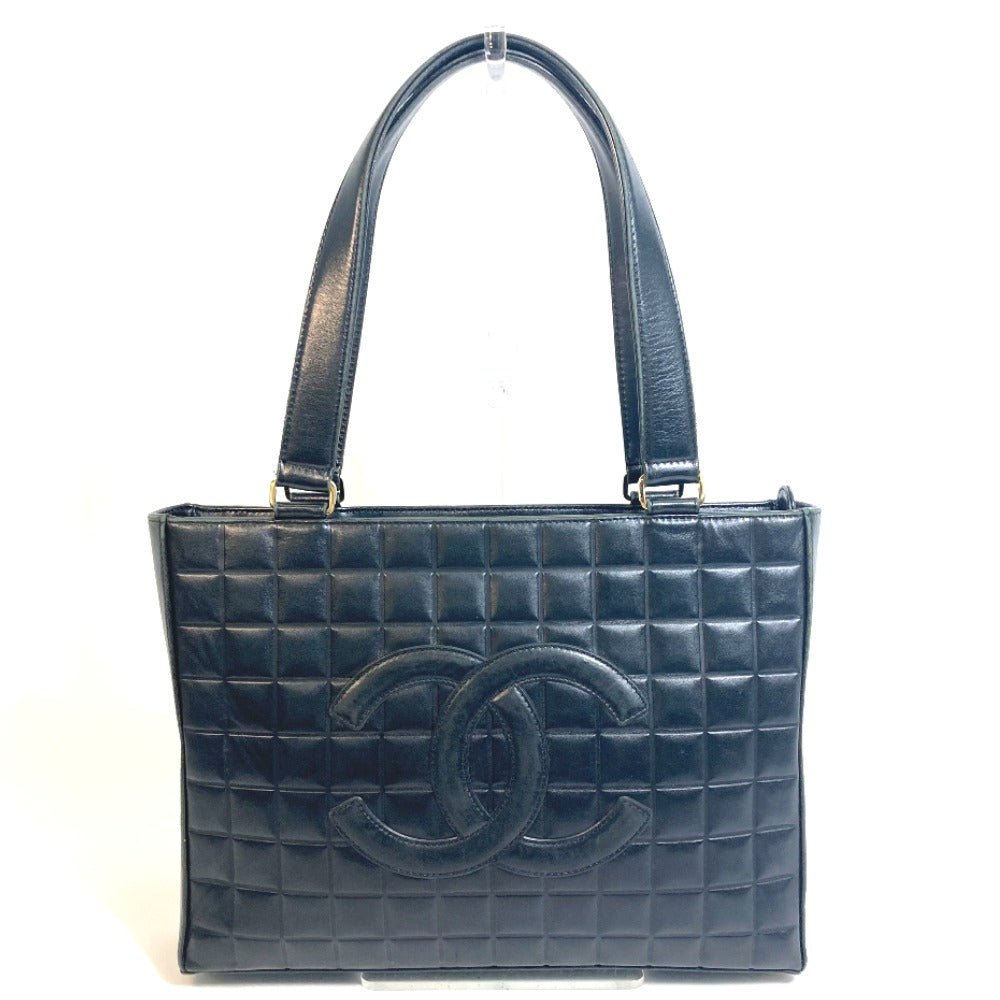channel: (125, 434, 814, 1000), (316, 618, 642, 892)
